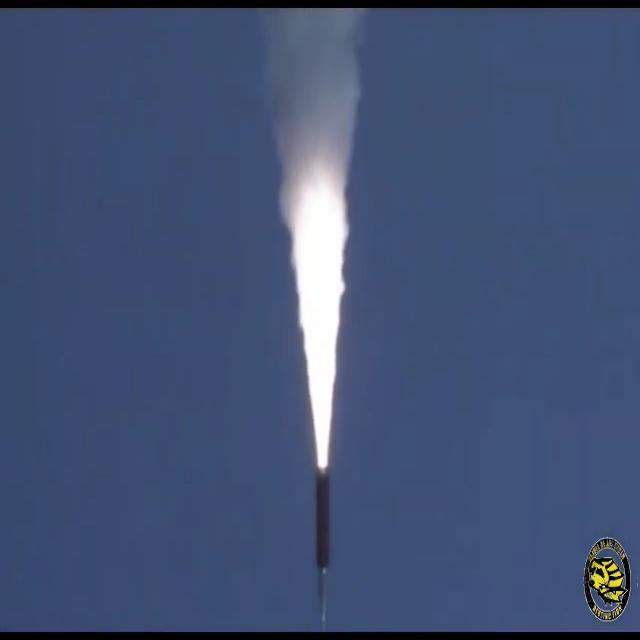Missile: (314, 458, 334, 634)
